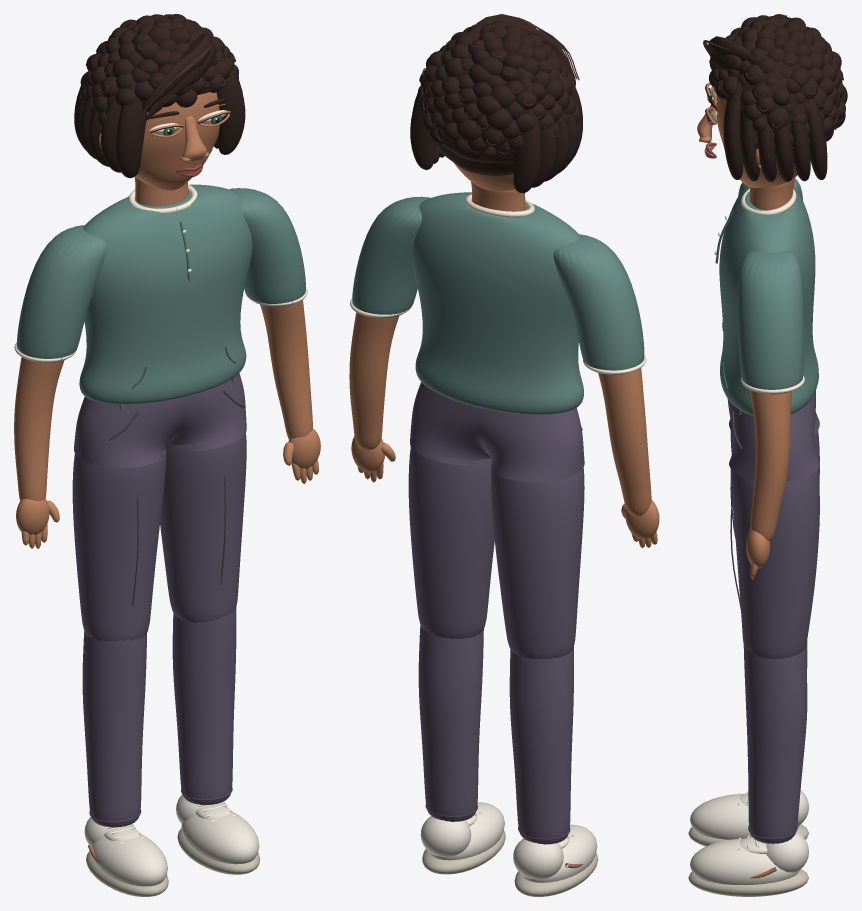
The model's file is character_broad.glb.
3 views of the same model, side by side, from view 1: azimuth 30°, elevation 25°; view 2: azimuth 150°, elevation 25°; view 3: azimuth 270°, elevation 25° (orthographic).
Visible parts, largest first — view 1: Top_Blouse, Bottom_Thigh_-1, Bottom_Thigh_1, Bottom_Shin_-1, Bottom_Shin_1, Bottom_Hip, Top_Sleeve_L, Top_Sleeve_R, Skin_Forearm_L, Skin_Forearm_R, Skin_Face, Shoes_Upper_1 (+10 smaller); view 2: Top_Blouse, Bottom_Thigh_-1, Bottom_Thigh_1, Bottom_Hip, Bottom_Shin_-1, Bottom_Shin_1, Top_Sleeve_L, Top_Sleeve_R, Skin_Forearm_L, Skin_Forearm_R, Shoes_Heel_-1, Shoes_Heel_1 (+13 smaller); view 3: Bottom_Thigh_1, Bottom_Shin_1, Top_Blouse, Top_Sleeve_R, Skin_Forearm_R, Bottom_Hip, Shoes_Upper_1, Shoes_Upper_-1, Shoes_Sole_1, Hair_Bob_Lock.006, Shoes_Heel_1, Hair_Bob_Lock.011 (+15 smaller).
Boxes of the visible parts, box(x1,y1,x2,y2) form: Top_Blouse: box(79, 184, 252, 404); Bottom_Thigh_-1: box(72, 448, 166, 641); Bottom_Thigh_1: box(160, 432, 246, 622); Bottom_Shin_-1: box(82, 631, 146, 827); Bottom_Shin_1: box(172, 608, 236, 804); Bottom_Hip: box(74, 373, 246, 467); Top_Sleeve_L: box(16, 225, 106, 363); Top_Sleeve_R: box(229, 188, 305, 306); Skin_Forearm_L: box(14, 357, 64, 500); Skin_Forearm_R: box(260, 300, 312, 439); Skin_Face: box(135, 92, 219, 190); Shoes_Upper_1: box(181, 811, 259, 864); Top_Blouse: box(412, 192, 583, 414); Bottom_Thigh_-1: box(491, 463, 584, 659); Bottom_Thigh_1: box(408, 447, 494, 638); Bottom_Hip: box(410, 382, 584, 482); Bottom_Shin_-1: box(509, 647, 573, 844); Bottom_Shin_1: box(418, 625, 483, 821); Top_Sleeve_L: box(553, 234, 644, 375); Top_Sleeve_R: box(352, 196, 430, 318); Skin_Forearm_L: box(598, 368, 651, 515); Skin_Forearm_R: box(349, 312, 399, 450); Shoes_Heel_-1: box(513, 838, 563, 879); Shoes_Heel_1: box(420, 816, 471, 856); Bottom_Thigh_1: box(730, 469, 819, 659); Bottom_Shin_1: box(743, 645, 807, 843); Top_Blouse: box(719, 185, 818, 415); Top_Sleeve_R: box(737, 250, 803, 394); Skin_Forearm_R: box(750, 390, 791, 541); Bottom_Hip: box(727, 390, 819, 481); Shoes_Upper_1: box(690, 838, 799, 885); Shoes_Upper_-1: box(690, 794, 799, 839); Shoes_Sole_1: box(688, 869, 808, 896); Hair_Bob_Lock.006: box(723, 76, 743, 179); Shoes_Heel_1: box(766, 832, 808, 872); Hair_Bob_Lock.011: box(807, 98, 827, 179).
Bounding box in the file's own units: 0.6675 × 1.78 × 0.3034.
